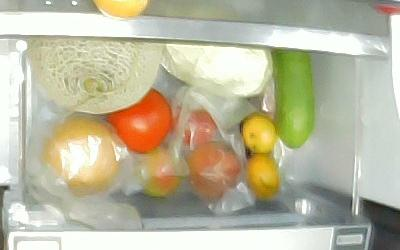cabbage: (159, 39, 272, 98)
melon: (27, 35, 162, 113)
pear_vinyl: (43, 119, 124, 196)
prune_vinyl: (173, 104, 216, 146)
tangerine: (246, 153, 280, 199), (242, 115, 275, 154)
tomato: (106, 87, 172, 151)
tomato_vinyl: (187, 143, 242, 198), (137, 145, 182, 197)
zucchini: (272, 50, 313, 150)
